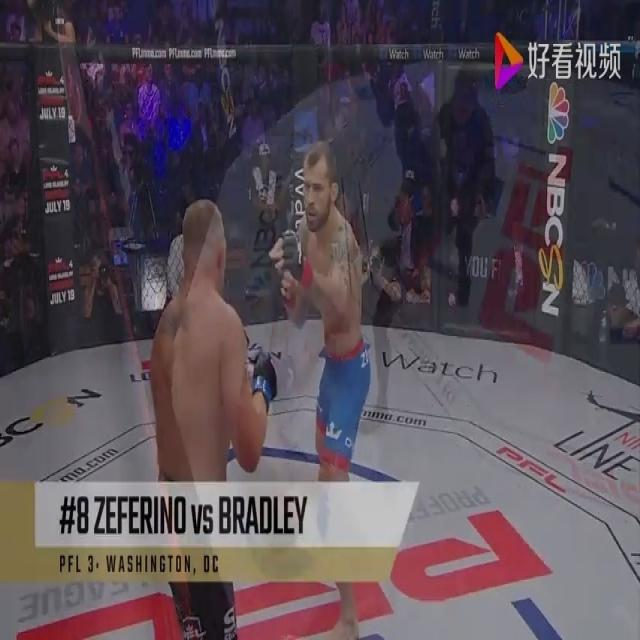fight: (138, 146, 378, 638)
